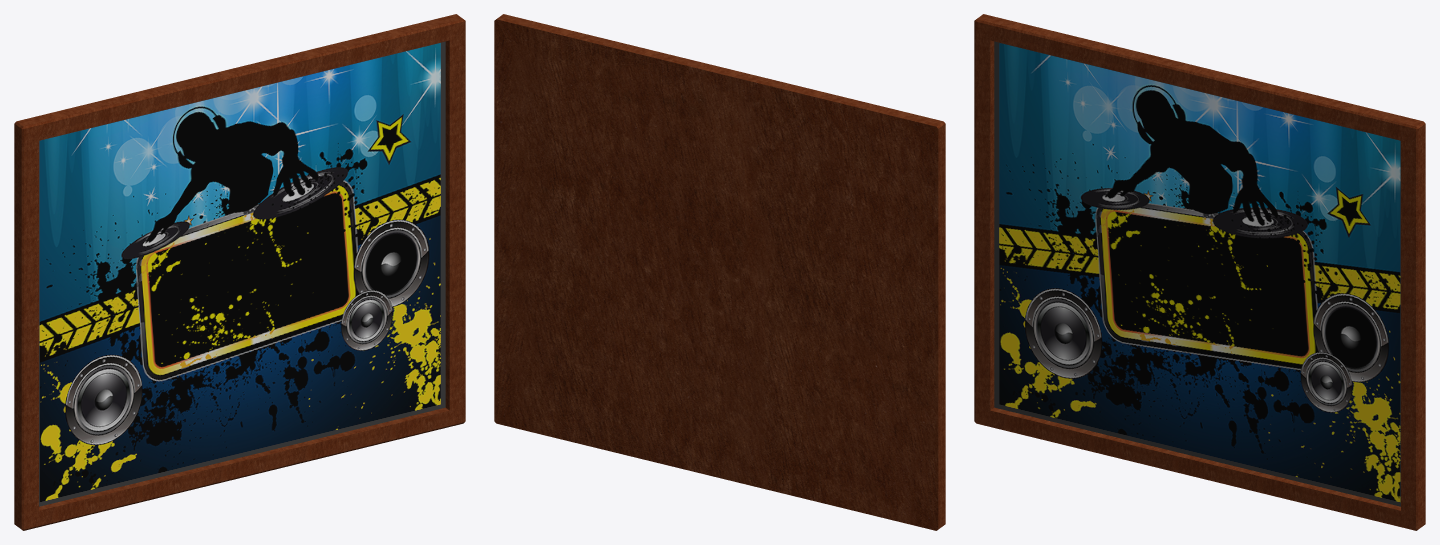
The model's file is Picture10.fbx.
3 views of the same model, side by side, from view 1: azimuth 30°, elevation 25°; view 2: azimuth 150°, elevation 25°; view 3: azimuth 330°, elevation 25° (orthographic).
Visible parts, largest first — view 1: Empty_Mesh; view 2: Empty_Mesh; view 3: Empty_Mesh.
Part boxes in pixels (x1,y1,x2,y2): Empty_Mesh: [14, 14, 465, 530]; Empty_Mesh: [494, 14, 945, 530]; Empty_Mesh: [974, 14, 1425, 530].
Size of the model in its own units: 184 by 160 by 5.68.
